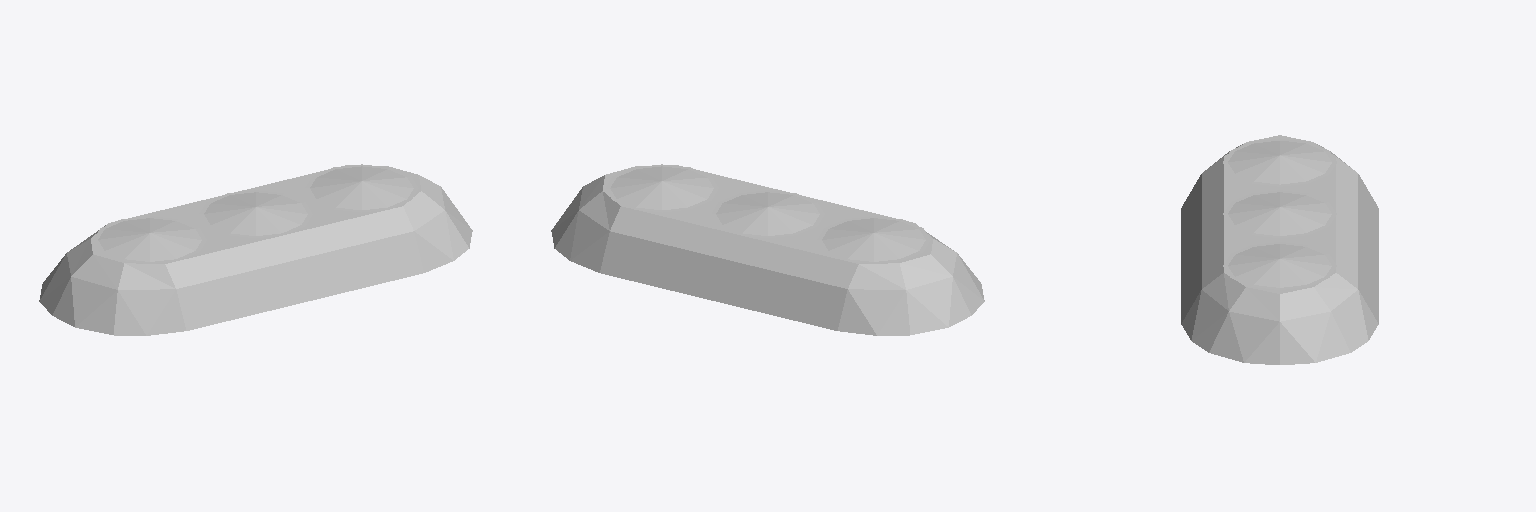
The model's file is movingBlock.obj.
The picture shows the model from 3 angles: view 1: azimuth 30°, elevation 25°; view 2: azimuth 150°, elevation 25°; view 3: azimuth 270°, elevation 25°; orthographic projection.
Parts seen in each view (by area): view 1: mis_obj_springvault_top_SD_mat1; view 2: mis_obj_springvault_top_SD_mat1; view 3: mis_obj_springvault_top_SD_mat1.
Part boxes in pixels (x1,y1,x2,y2): mis_obj_springvault_top_SD_mat1: (39, 164, 472, 335); mis_obj_springvault_top_SD_mat1: (551, 164, 984, 335); mis_obj_springvault_top_SD_mat1: (1181, 135, 1378, 364).
Bounding box in the file's own units: 2.37 × 0.545 × 0.9964.